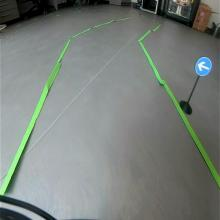left: (194, 56, 213, 77)
